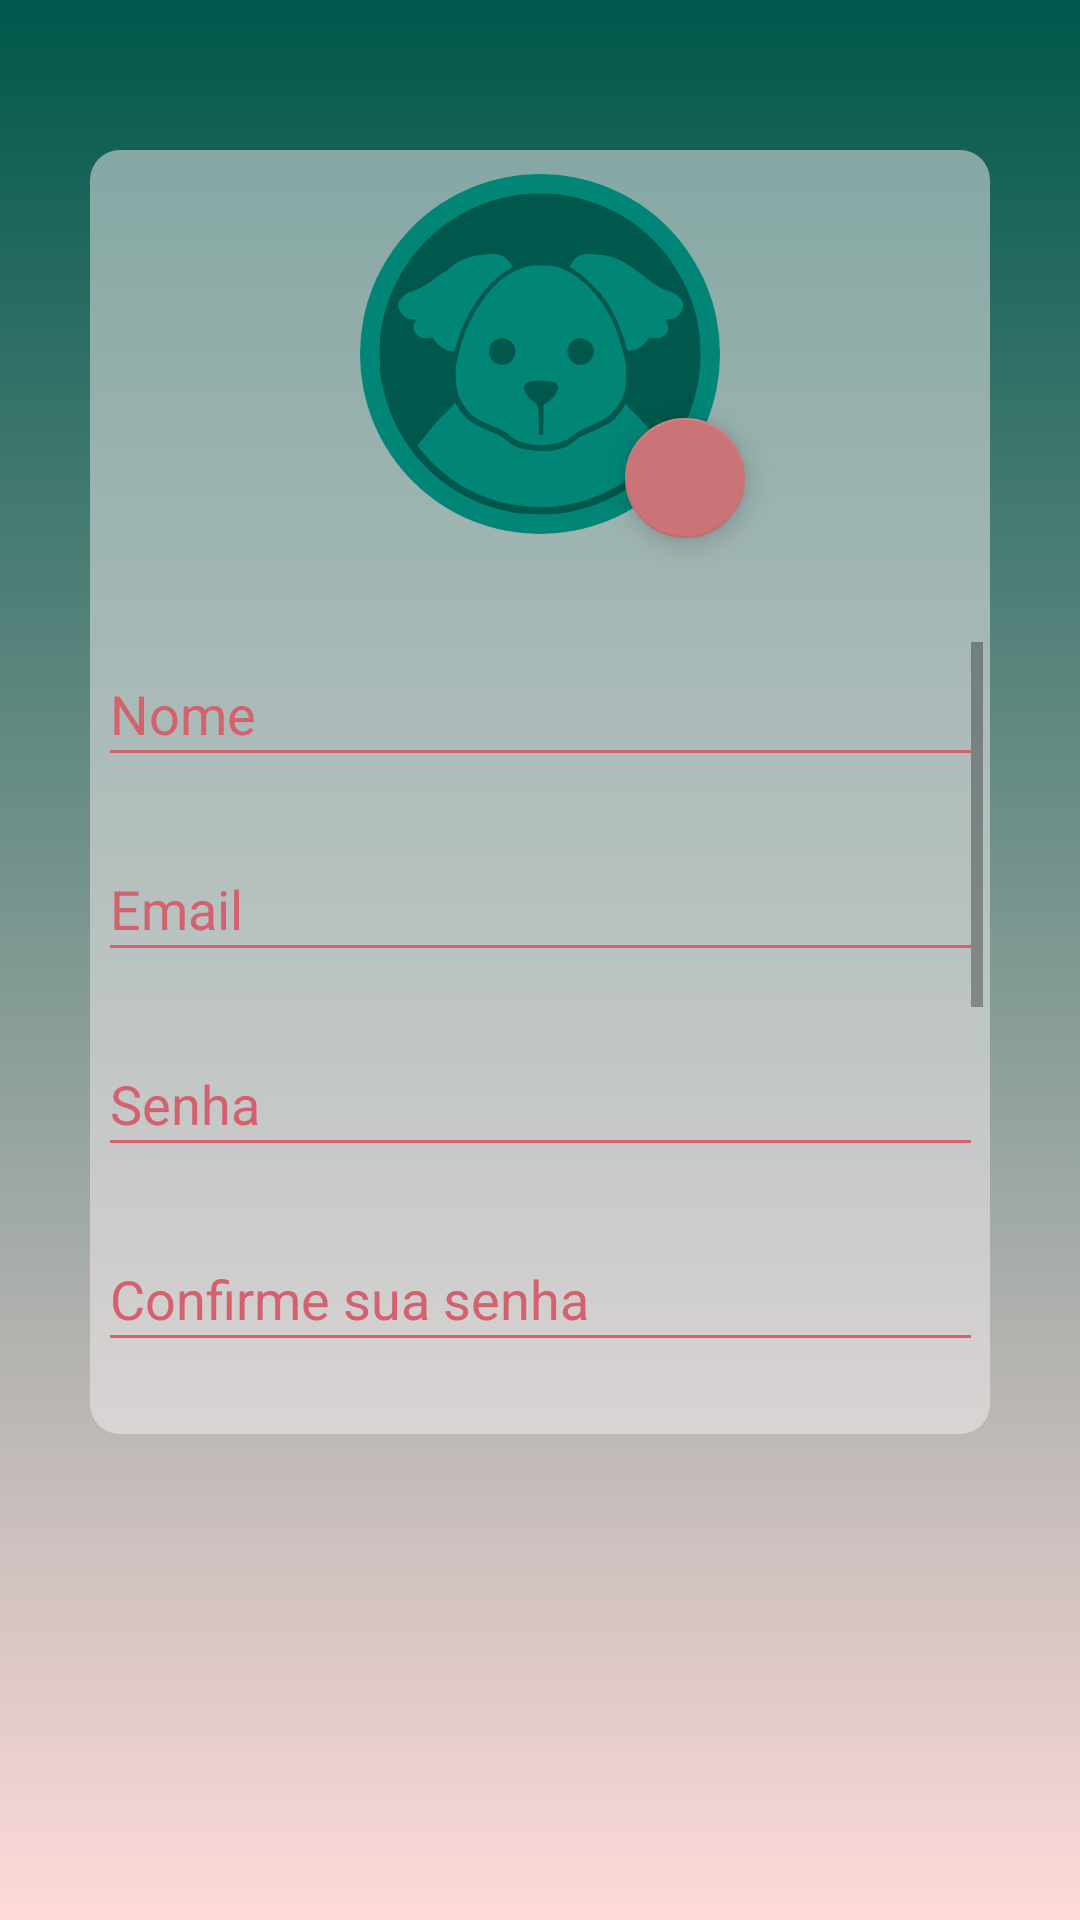

Where to tap for icons on this 1080 × 1920 app screen, as point (x, y):
dog perfil: point (540, 354)
